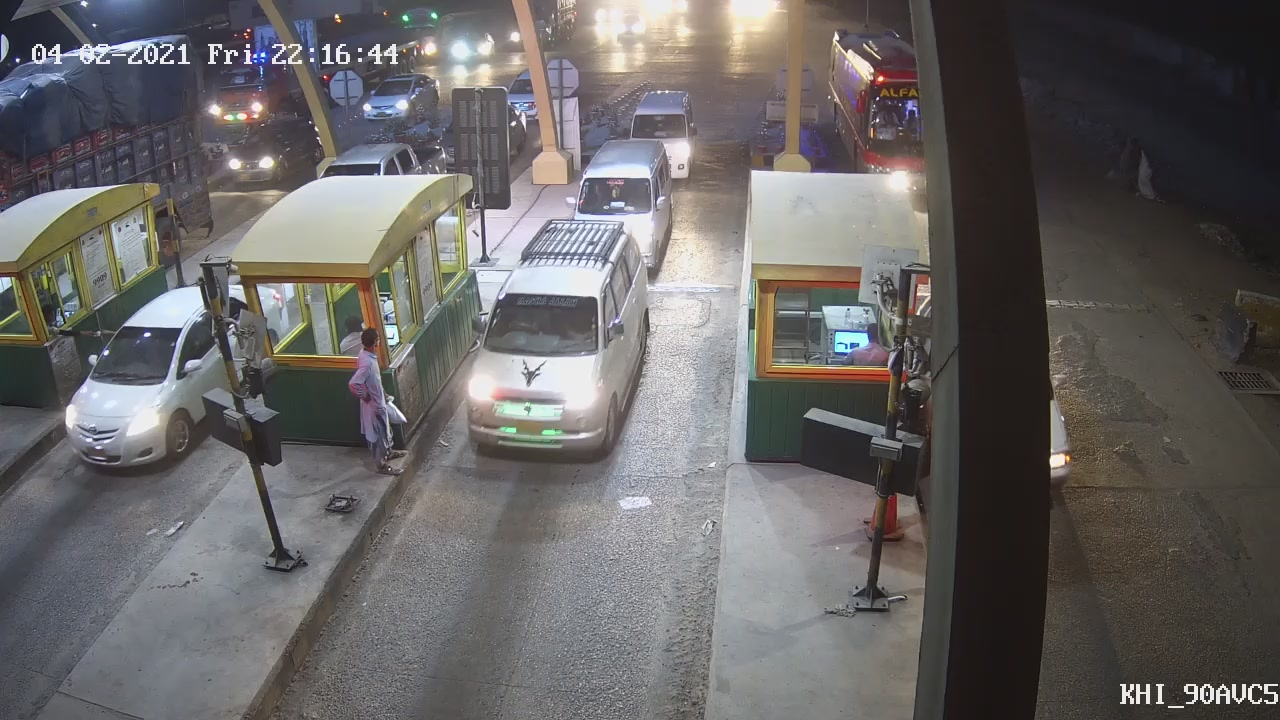F2: (469, 211, 650, 460)
